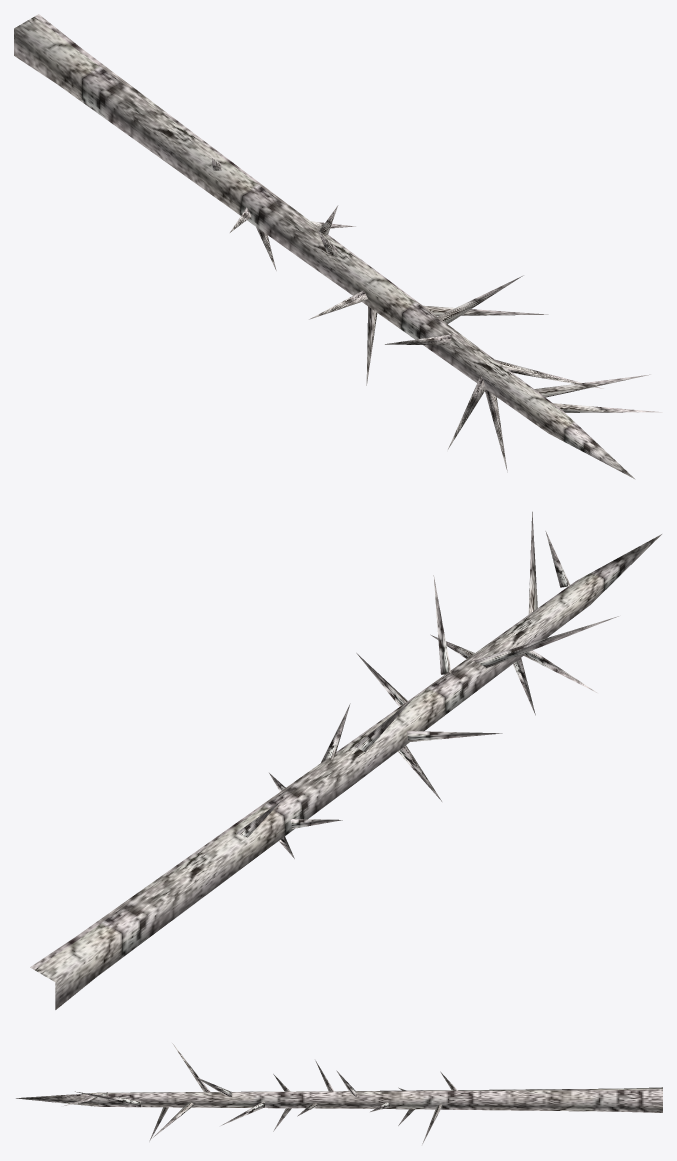
The model's file is Tree06.glb.
The picture shows the model from 3 angles, top to bottom: view 1: azimuth 30°, elevation 25°; view 2: azimuth 150°, elevation 25°; view 3: azimuth 270°, elevation 25°; orthographic projection. The views are drawn at different scales.
Parts seen in each view (by area): view 1: model_Tree06; view 2: model_Tree06; view 3: model_Tree06.
Boxes of the visible parts, left/top/right/bottom form: model_Tree06: left=14, top=14, right=662, bottom=479; model_Tree06: left=30, top=511, right=661, bottom=1009; model_Tree06: left=16, top=1043, right=662, bottom=1144.
Bounding box in the file's own units: 1.65 × 1.14 × 8.09.
1 material, 1 textured.
